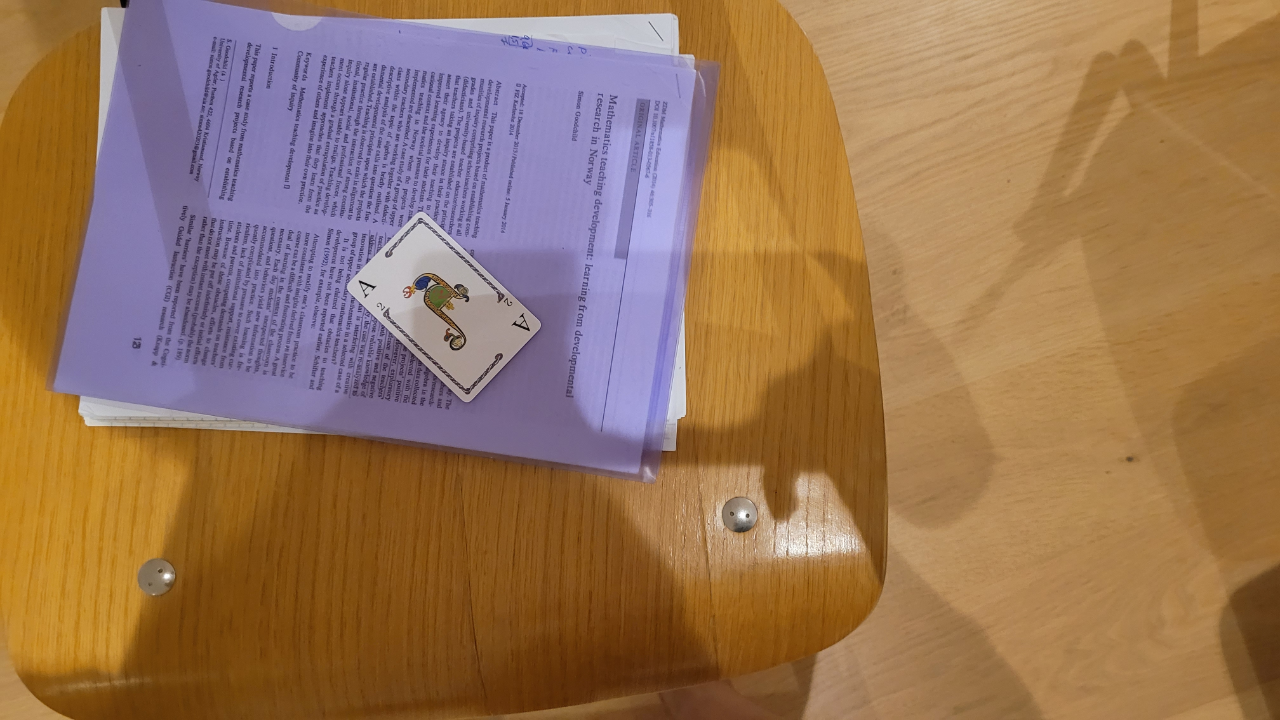quiddler_card: (346, 213, 540, 404)
